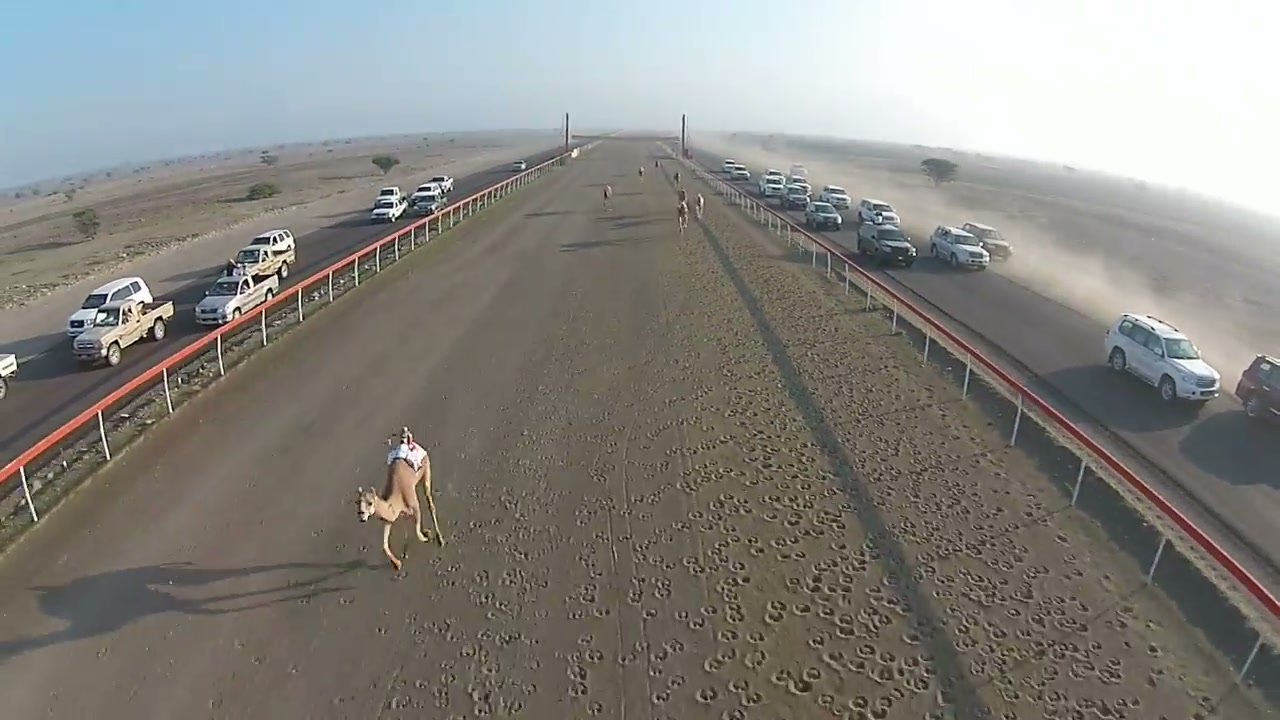animal_footprint: (384, 189, 1228, 719)
